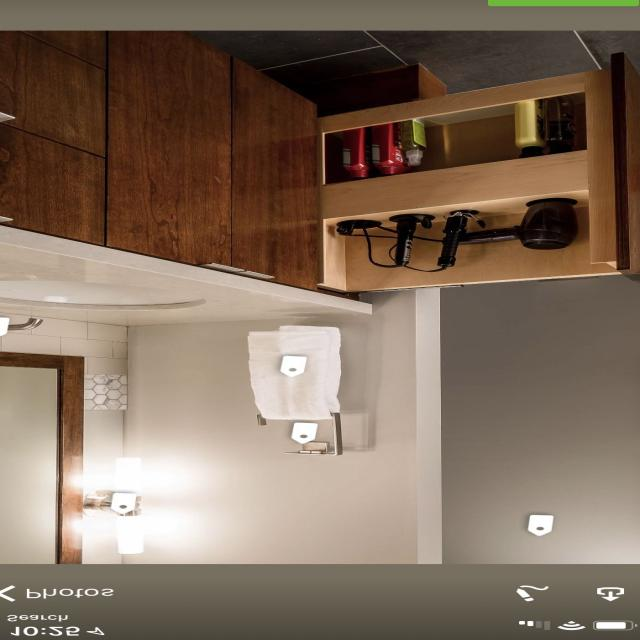dryer: (447, 180, 588, 264)
